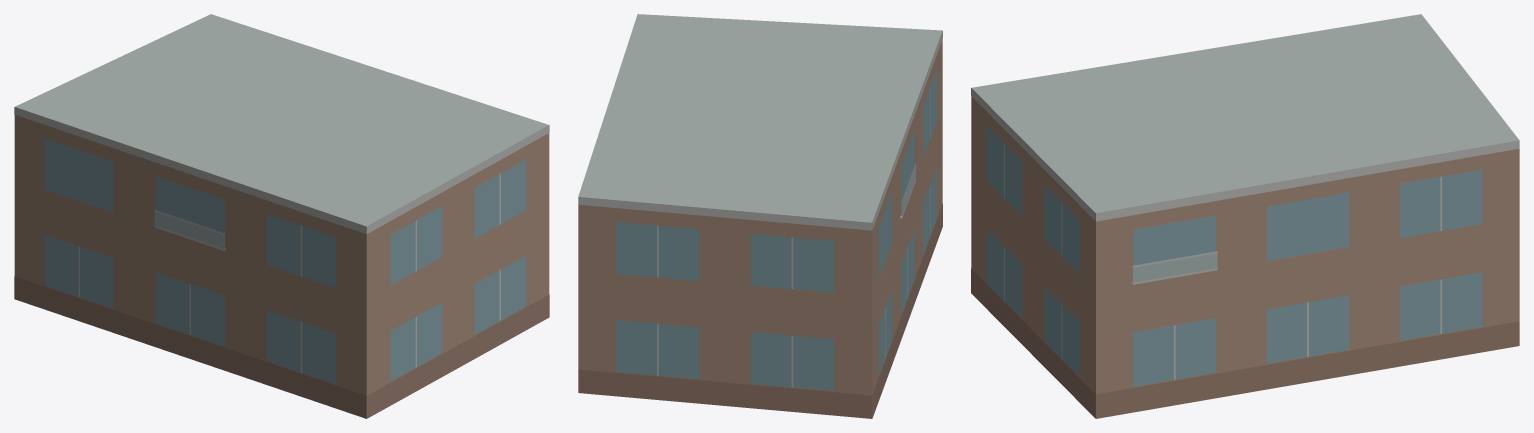
Rendered from survey-upis-32822831.glb.
3 views of the same model, side by side, from view 1: azimuth 30°, elevation 25°; view 2: azimuth 150°, elevation 25°; view 3: azimuth 270°, elevation 25° (orthographic). The views are drawn at different scales.
Parts seen in each view (by area): view 1: survey-upis-32822831.tmp; view 2: survey-upis-32822831.tmp; view 3: survey-upis-32822831.tmp.
Part boxes in pixels (x1=…): survey-upis-32822831.tmp: x1=14, y1=14, x2=549, y2=418; survey-upis-32822831.tmp: x1=578, y1=14, x2=942, y2=418; survey-upis-32822831.tmp: x1=971, y1=14, x2=1519, y2=418.
Size of the model in its own units: 12.71 by 6.1 by 14.77.
